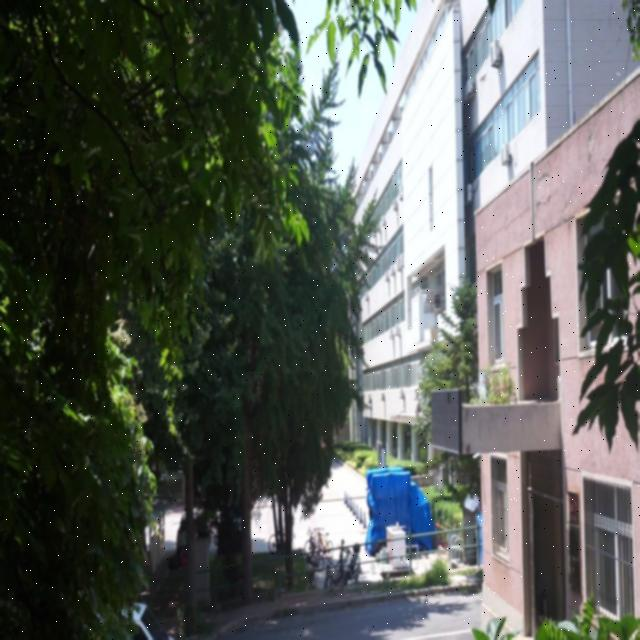UAV: (478, 71, 488, 82)
